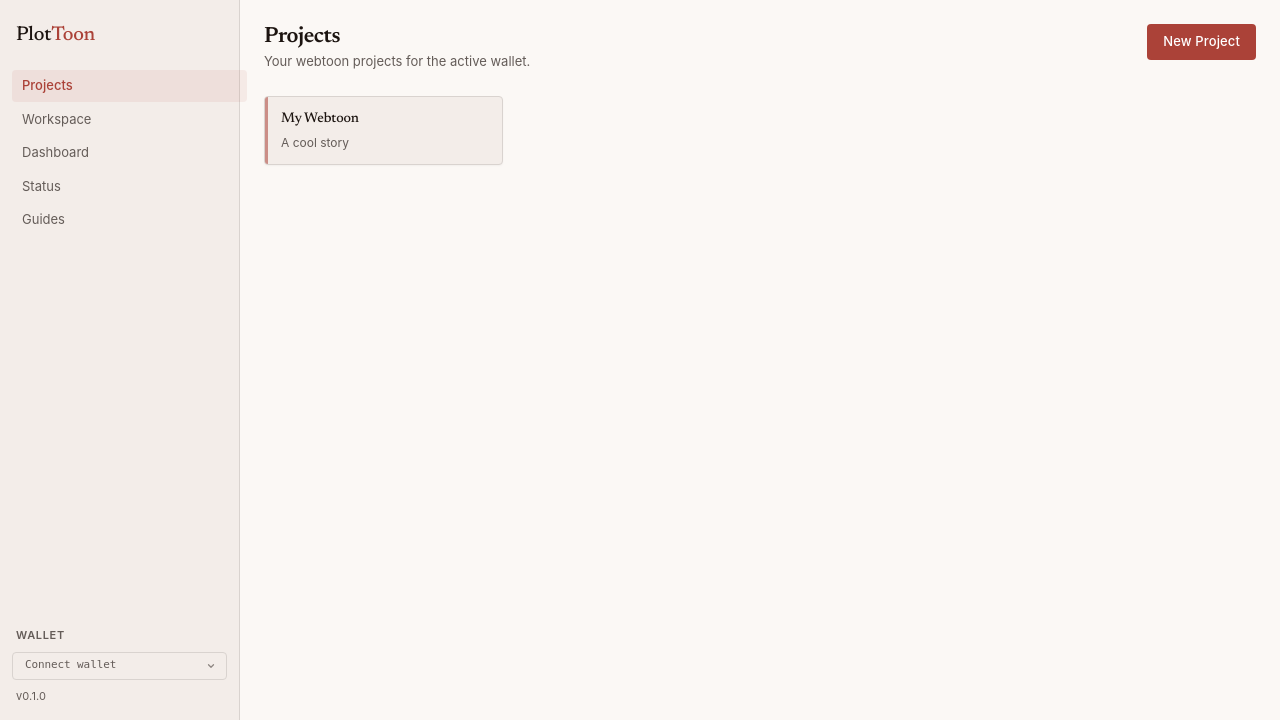
Test: App › clears preview and inspector when switching to a plot with no cuts
This screenshot has width=1280, height=720.
Click the text "My Webtoon".
click(320, 119)  # box [281,112,359,126]
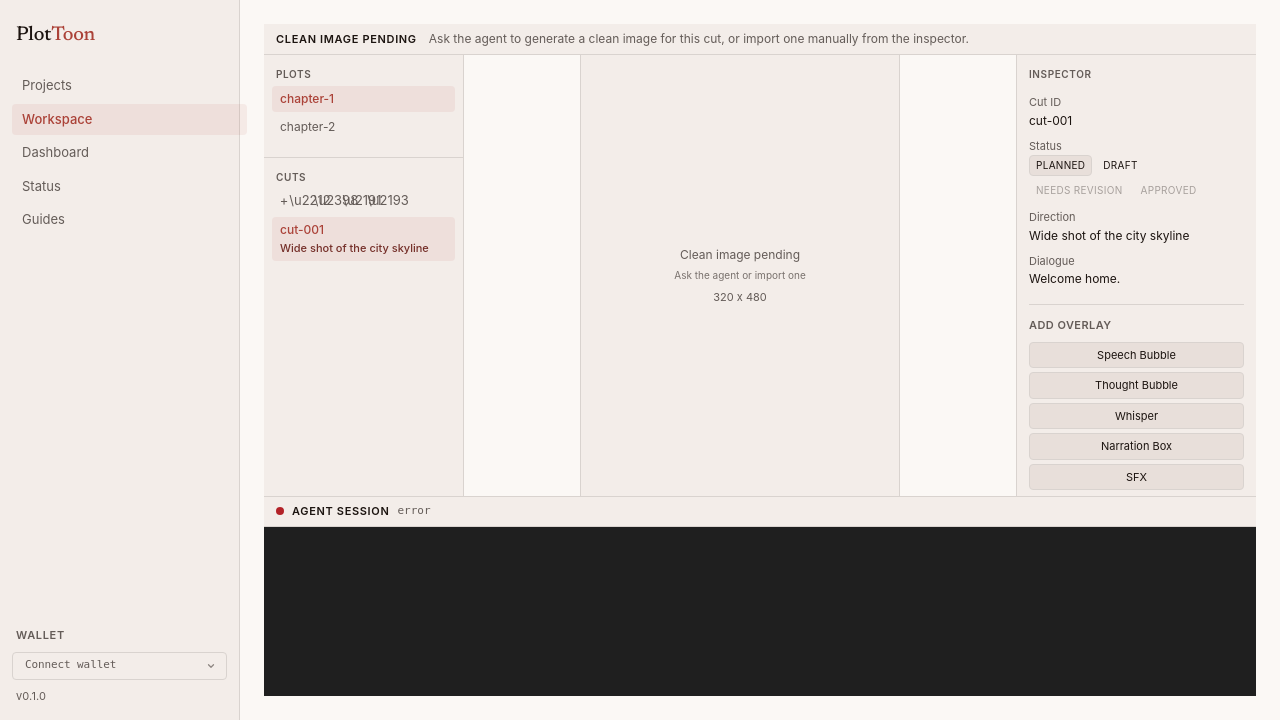
Now the text "Welcome home." is shown, box [1029,271,1120,286]
Note: Switch to chapter-2 (no cuts.json)
Click the button "chapter-2".
click(364, 127)  # box [272,114,455,140]
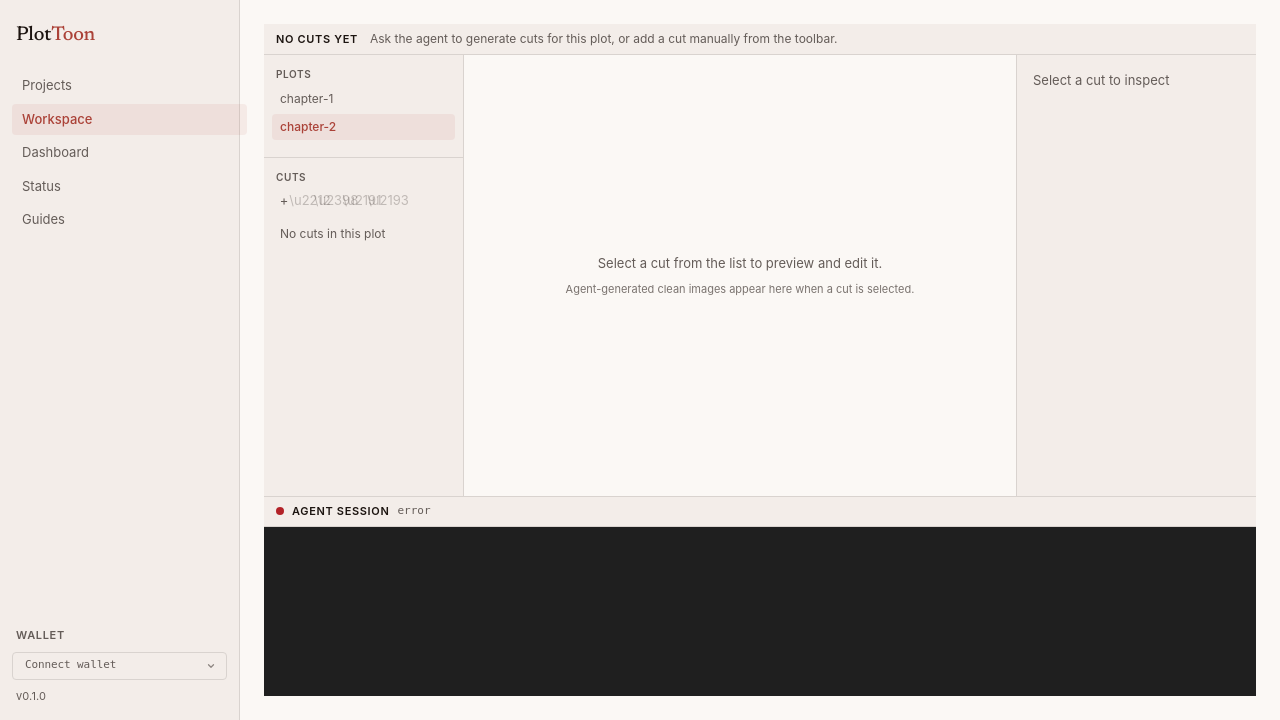
Now the text "Welcome home." is gone
Now the text "Select a cut to inspect" is shown, box [1033,72,1170,88]
